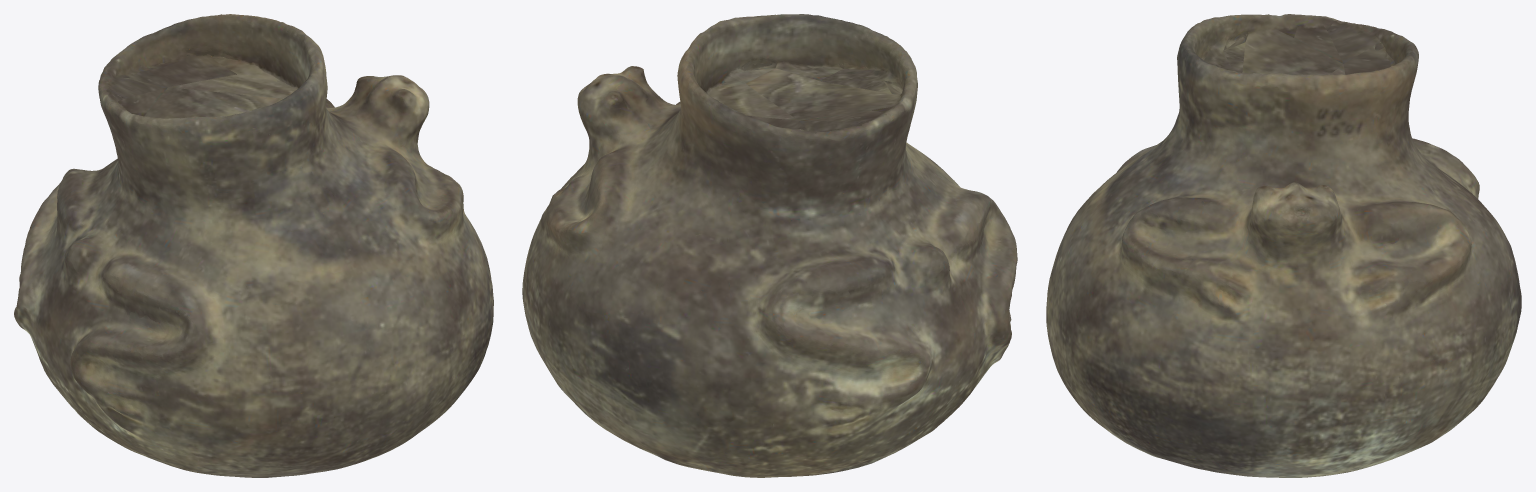
Rendered from Ark_HM_724_HI.glb.
The picture shows the model from 3 angles, left to right: view 1: azimuth 30°, elevation 25°; view 2: azimuth 150°, elevation 25°; view 3: azimuth 270°, elevation 25°; orthographic projection. The views are drawn at different scales.
Size of the model in its own units: 0.4981 by 0.4445 by 0.4861.
Materials: 1 (1 with a texture image).
